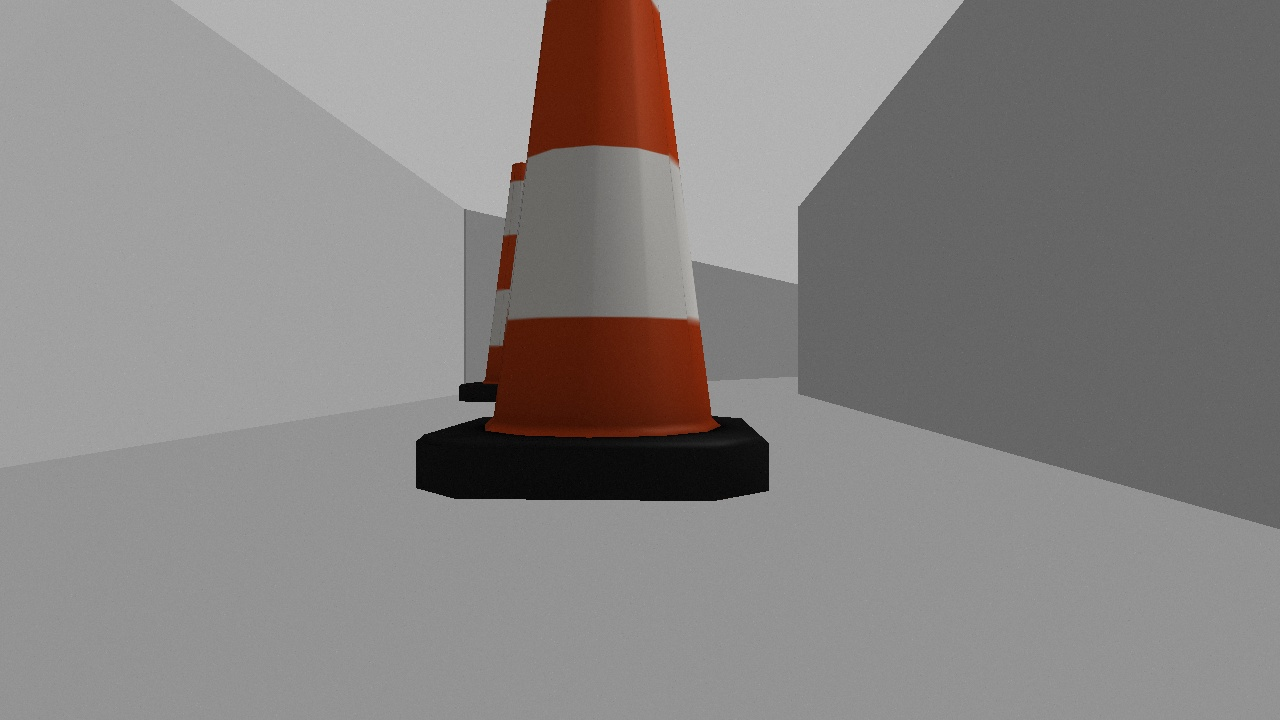barricade: (382, 1, 819, 509), (447, 146, 582, 409)
